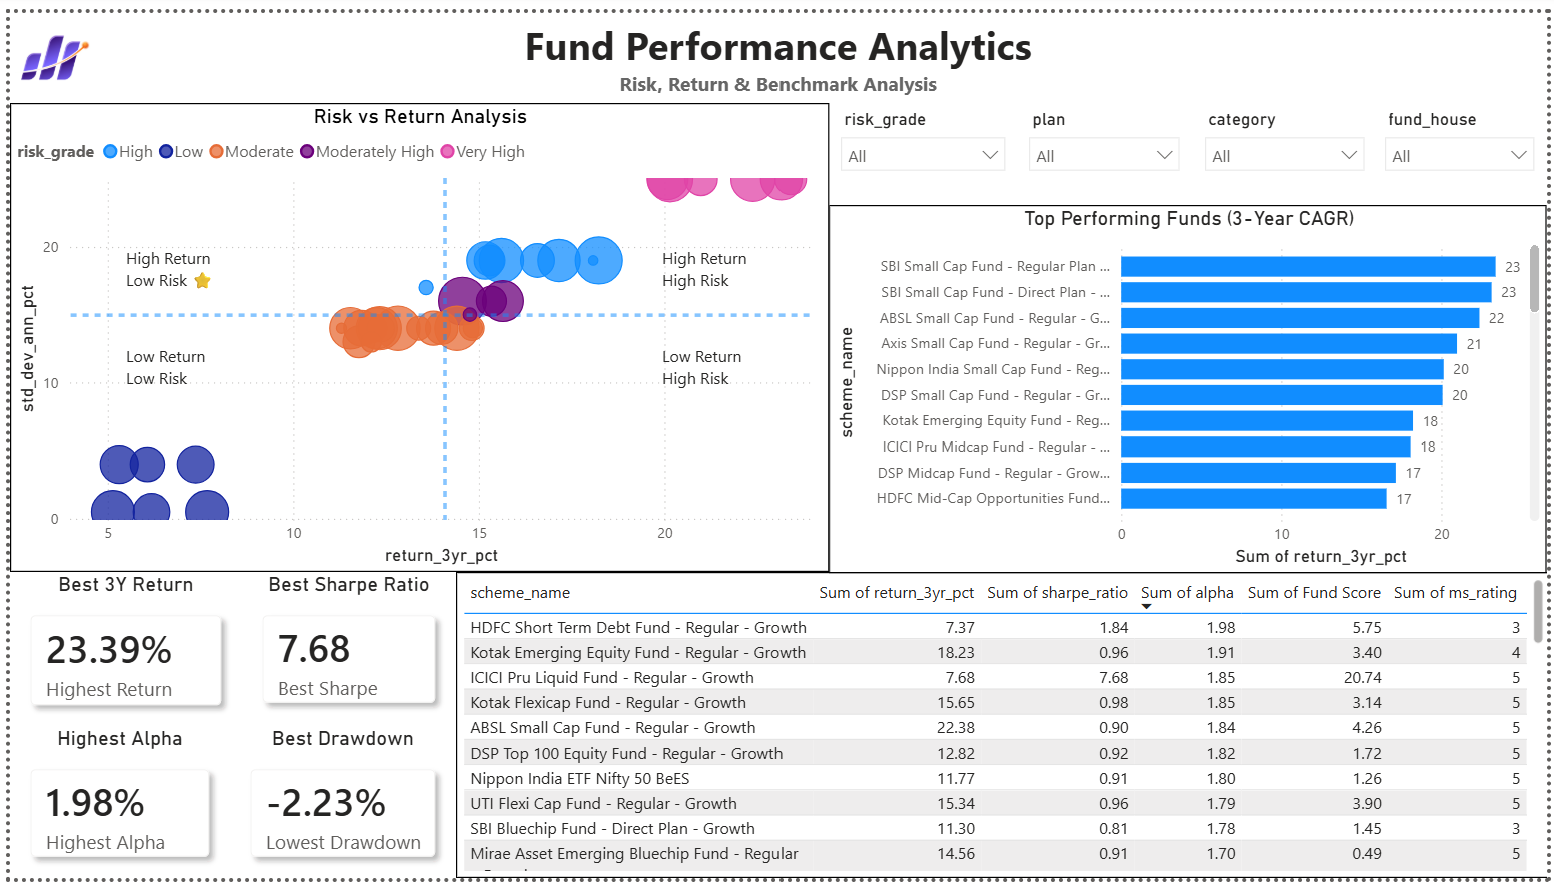

This screenshot's page, from the dashboard's own definition file:
{"tool":"powerbi","page":{"name":"Fund Performance Analytics","canvas":[1280,720],"ordinal":1},"visuals":[{"type":"scatterChart","title":"Risk vs Return Analysis","fields":{"Y":["07_scheme_performance.std_dev_ann_pct"],"X":["07_scheme_performance.return_3yr_pct"],"Series":["07_scheme_performance.risk_grade"],"Size":["Sum(07_scheme_performance.aum_crore)"]},"box":[0,75,682,390],"z":0,"group":"g1"},{"type":"slicer","fields":{"Values":["03_aum_by_fund_house.fund_house"]},"box":[1135.7,75.7,144.3,68.6],"z":0},{"type":"slicer","fields":{"Values":["07_scheme_performance.category"]},"box":[984.3,75.7,152.9,68.6],"z":1000},{"type":"textbox","box":[92.2,271.7,101.1,50],"z":1000,"group":"g1"},{"type":"slicer","fields":{"Values":["07_scheme_performance.plan"]},"box":[838.6,75.7,145.7,65.7],"z":2000},{"type":"textbox","box":[537.8,271.7,102.2,50],"z":2000,"group":"g1"},{"type":"textbox","box":[398.6,0,482.9,75.7],"z":3000},{"type":"textbox","box":[92.1,189.2,92.1,46.8],"z":3000,"group":"g1"},{"type":"slicer","fields":{"Values":["07_scheme_performance.risk_grade"]},"box":[681.4,75.7,157.1,65.7],"z":4000},{"type":"textbox","box":[537.8,189.4,102.2,50],"z":4000,"group":"g1"},{"type":"cardVisual","title":"Best 3Y Return","fields":{"Data":["07_scheme_performance.Highest Return"]},"box":[0,465,193.3,128.3],"z":5000},{"type":"cardVisual","title":"Best Sharpe Ratio","fields":{"Data":["07_scheme_performance.Best Sharpe"]},"box":[193.3,465,178.3,126.7],"z":6000},{"type":"cardVisual","title":"Highest Alpha","fields":{"Data":["07_scheme_performance.Highest Alpha"]},"box":[0,593.3,183.3,126.7],"z":7000},{"type":"cardVisual","title":"Best Drawdown","fields":{"Data":["07_scheme_performance.Lowest Drawdown"]},"box":[183.3,593.3,188.3,126.7],"z":8000},{"type":"clusteredBarChart","title":"Top Performing Funds (3-Year CAGR)","fields":{"Category":["07_scheme_performance.scheme_name"],"Y":["Sum(07_scheme_performance.return_3yr_pct)"]},"box":[682,160,598,306],"z":9000},{"type":"tableEx","fields":{"Values":["07_scheme_performance.scheme_name","Sum(07_scheme_performance.return_3yr_pct)","Sum(07_scheme_performance.sharpe_ratio)","Sum(07_scheme_performance.alpha)","Sum(07_scheme_performance.Fund Score)","Sum(07_scheme_performance.morningstar_rating)"]},"box":[371.7,465,911.7,255],"z":10000},{"type":"group","id":"g1","title":"Group 1","box":[0,75,682,390],"z":11000},{"type":"image","box":[0,0,74.6,75],"z":11001}]}

Visuals, with their boxes in screenshot pixels (x1, y1, x2, y2), scaled from the page's 1280x720 canvas onto the 1554x884 screenshot:
"Risk vs Return Analysis" scatterChart: x1=0 y1=92 x2=828 y2=571
slicer - 03_aum_by_fund_house.fund_house: x1=1379 y1=93 x2=1553 y2=177
slicer - 07_scheme_performance.category: x1=1195 y1=93 x2=1381 y2=177
textbox: x1=112 y1=334 x2=235 y2=395
slicer - 07_scheme_performance.plan: x1=1018 y1=93 x2=1195 y2=174
textbox: x1=653 y1=334 x2=777 y2=395
textbox: x1=484 y1=0 x2=1070 y2=93
textbox: x1=112 y1=232 x2=224 y2=290
slicer - 07_scheme_performance.risk_grade: x1=827 y1=93 x2=1018 y2=174
textbox: x1=653 y1=233 x2=777 y2=294
"Best 3Y Return" cardVisual: x1=0 y1=571 x2=235 y2=728
"Best Sharpe Ratio" cardVisual: x1=235 y1=571 x2=451 y2=726
"Highest Alpha" cardVisual: x1=0 y1=728 x2=223 y2=883
"Best Drawdown" cardVisual: x1=223 y1=728 x2=451 y2=883
"Top Performing Funds (3-Year CAGR)" clusteredBarChart: x1=828 y1=196 x2=1553 y2=572
tableEx - 07_scheme_performance.scheme_name x Sum(07_scheme_performance.return_3yr_pct): x1=451 y1=571 x2=1553 y2=883
"Group 1" group: x1=0 y1=92 x2=828 y2=571
image: x1=0 y1=0 x2=91 y2=92
